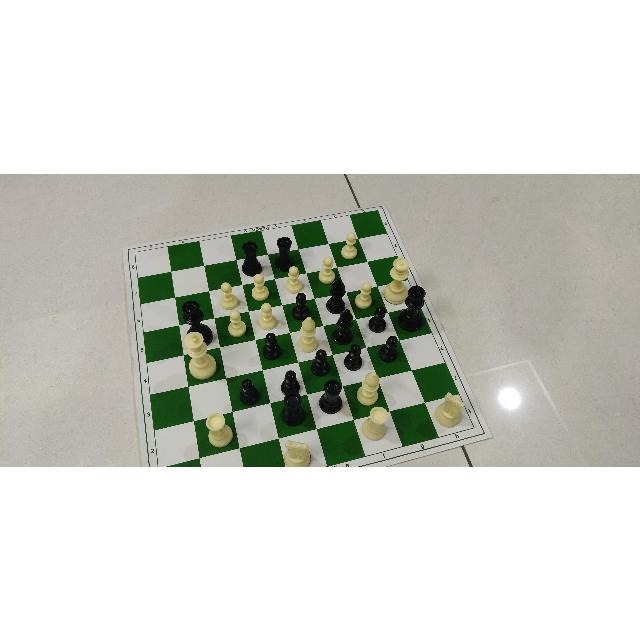black-bishop: (331, 308, 355, 344), (326, 275, 346, 314)
black-king: (395, 284, 426, 329)
black-pawn: (367, 303, 389, 334), (376, 334, 399, 362), (262, 330, 282, 360), (238, 377, 261, 402), (343, 342, 362, 372), (291, 289, 309, 320), (280, 368, 301, 393), (313, 349, 330, 377)
black-queen: (179, 298, 217, 343)
black-rook: (318, 378, 344, 416), (238, 241, 266, 273), (282, 392, 310, 423), (276, 235, 293, 271)
white-bishop: (295, 314, 318, 354), (356, 370, 381, 406)
white-king: (181, 332, 221, 382)
white-knight: (432, 391, 468, 429), (282, 438, 314, 466)
white-pawn: (218, 280, 241, 310), (256, 302, 279, 330), (249, 273, 272, 299), (316, 254, 335, 285), (354, 280, 374, 308), (340, 230, 358, 259), (285, 266, 305, 292), (225, 310, 246, 334)
white-queen: (385, 256, 411, 302)
white-rook: (204, 412, 236, 448), (359, 405, 391, 439)
